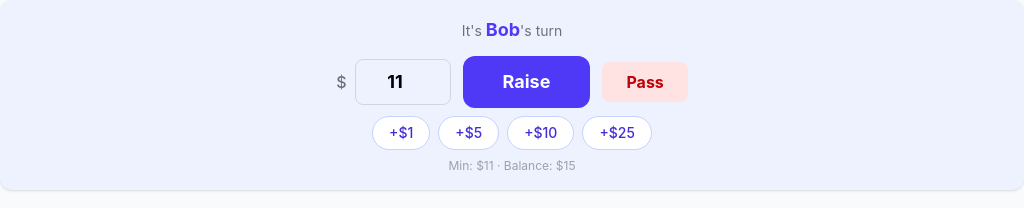
Test: BidControls › bid button disabled state › disables bid button when amount exceeds balance
This screenshot has width=1024, height=208.
# Set bid amount higher than active player's balance
Replace the text in the number field with "9999" at (402, 82), box [354, 59, 450, 105]
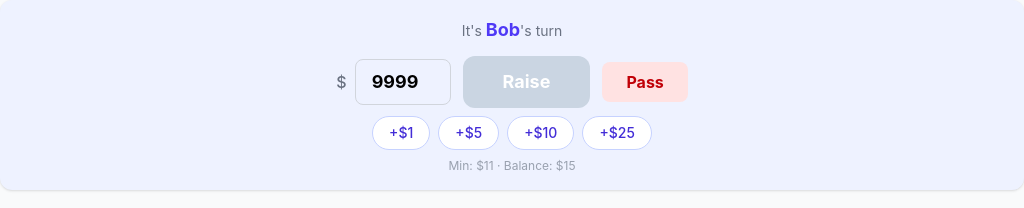
Now the button "Raise" is disabled, box [462, 56, 590, 108]
